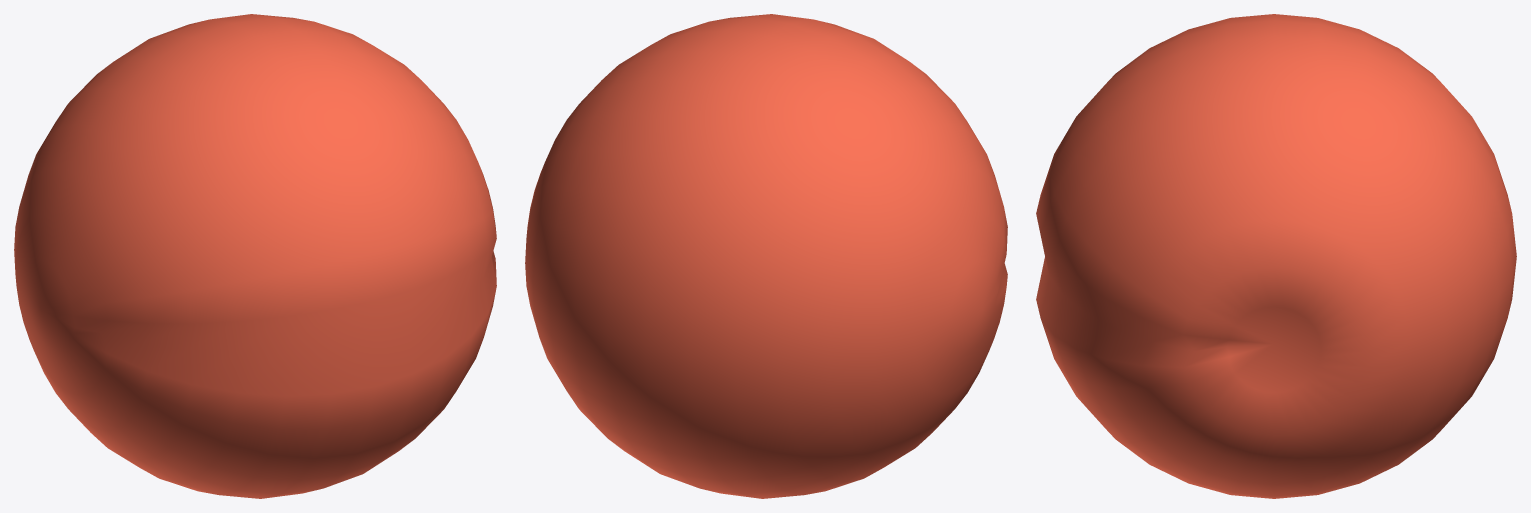
The model's file is Fruit_Peach.fbx.
3 views of the same model, side by side, from view 1: azimuth 30°, elevation 25°; view 2: azimuth 150°, elevation 25°; view 3: azimuth 270°, elevation 25° (orthographic).
Parts seen in each view (by area): view 1: Peach; view 2: Peach; view 3: Peach.
Part boxes in pixels (x1,y1,x2,y2): Peach: [14, 14, 496, 498]; Peach: [525, 14, 1007, 498]; Peach: [1036, 14, 1516, 498].
Bounding box in the file's own units: 195 × 200 × 198.
